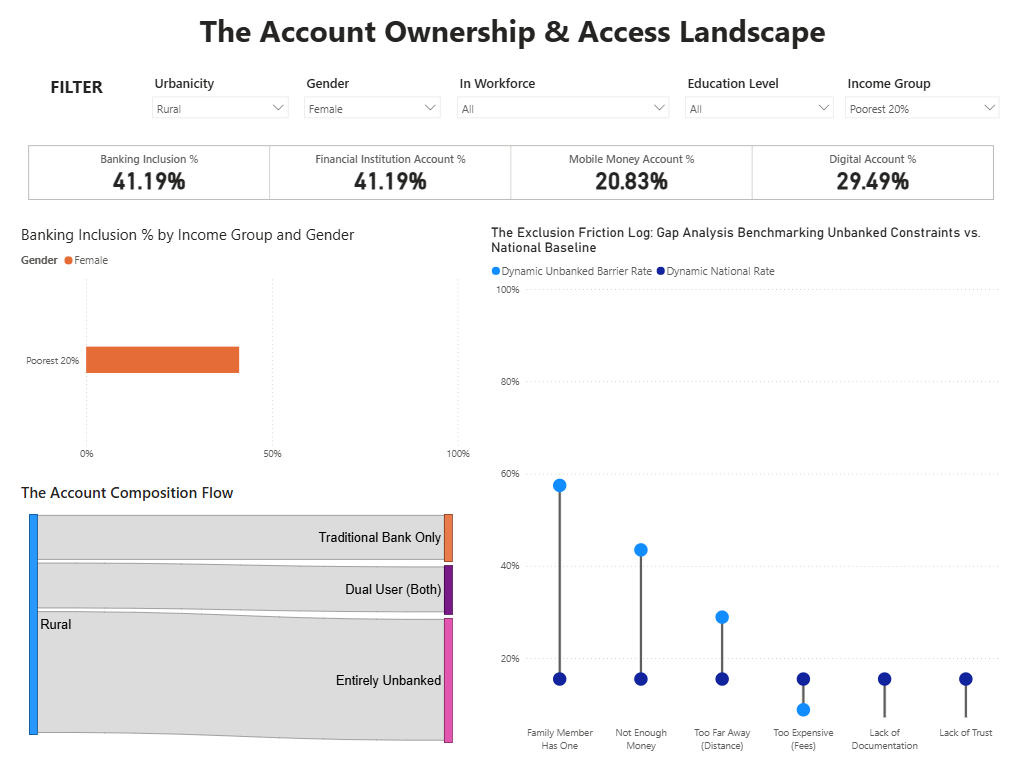

Layout of this report page (visuals, bound fields, positions):
{"tool":"powerbi","page":{"name":"The Account Ownership & Access Landscape","canvas":[1280,1000],"ordinal":2},"visuals":[{"type":"group","id":"g1","title":"Group 1","box":[24,112,1232,64],"z":0,"group":"g2"},{"type":"slicer","fields":{"Values":["Findex_Microdata_2025_updateViet Nam.Urbanicity.1"]},"box":[181.9,112,189.5,64],"z":0,"group":"g1"},{"type":"cardVisual","fields":{"Data":["Findex_Microdata_2025_updateViet Nam.Banking Inclusion %","Findex_Microdata_2025_updateViet Nam.Financial Institution Account %","Findex_Microdata_2025_updateViet Nam.Mobile Money Account %","Findex_Microdata_2025_updateViet Nam.Digital Account %"]},"box":[24,192,1232,96],"z":0},{"type":"group","id":"g2","title":"Group 2","box":[24,112,1232,64],"z":1000},{"type":"slicer","fields":{"Values":["Findex_Microdata_2025_updateViet Nam.Education Level"]},"box":[845.3,112,205.3,64],"z":1000,"group":"g2"},{"type":"slicer","fields":{"Values":["Findex_Microdata_2025_updateViet Nam.Income Group"]},"box":[1043.6,112,212.4,64],"z":1000,"group":"g1"},{"type":"slicer","fields":{"Values":["Findex_Microdata_2025_updateViet Nam.Gender"]},"box":[371.5,112,189.5,64],"z":2000,"group":"g1"},{"type":"slicer","fields":{"Values":["Findex_Microdata_2025_updateViet Nam.In Workforce"]},"box":[561,112,284.3,64],"z":2000,"group":"g2"},{"type":"clusteredBarChart","fields":{"Y":["Findex_Microdata_2025_updateViet Nam.Banking Inclusion %"],"Category":["Findex_Microdata_2025_updateViet Nam.Location Type","Findex_Microdata_2025_updateViet Nam.Income Group"],"Series":["Findex_Microdata_2025_updateViet Nam.Gender"]},"box":[24,304,568,304],"z":2000},{"type":"textbox","box":[24,112,147.8,64],"z":3000,"group":"g1"},{"type":"sankey02300D1BE6F5427989F3DE31CCA9E0F32020","title":"The Account Composition Flow","fields":{"Source":["Findex_Microdata_2025_updateViet Nam.Location Type"],"Destination":["Findex_Microdata_2025_updateViet Nam.Account Ecosystem Type"],"Weight":["Findex_Microdata_2025_updateViet Nam.Total Weighted Population"]},"box":[24,624,568,344],"z":3000},{"type":"textbox","box":[224,32,832,64],"z":4000},{"type":"lineChart","title":"The Exclusion Friction Log: Gap Analysis Benchmarking Unbanked Constraints vs. National Baseline","fields":{"Category":["Pillar4_Friction_Spine.Barrier Reason"],"Y":["Pillar4_Friction_Spine.Dynamic Unbanked Rate","Pillar4_Friction_Spine.Dynamic National Rate"]},"box":[608,304,648,664],"z":4001}]}

Visuals, with their boxes on the page's 1280x1000 design canvas (x1, y1, x2, y2). These are canvas units, not pixel positions in the 1027x769 screenshot, which may show the page scaled, cropped or inside an application window:
"Group 1" group: (24, 112, 1256, 176)
slicer - Findex_Microdata_2025_updateViet Nam.Urbanicity.1: (182, 112, 371, 176)
cardVisual - Findex_Microdata_2025_updateViet Nam.Banking Inclusion % x Findex_Microdata_2025_updateViet Nam.Financial Institution Account %: (24, 192, 1256, 288)
"Group 2" group: (24, 112, 1256, 176)
slicer - Findex_Microdata_2025_updateViet Nam.Education Level: (845, 112, 1051, 176)
slicer - Findex_Microdata_2025_updateViet Nam.Income Group: (1044, 112, 1256, 176)
slicer - Findex_Microdata_2025_updateViet Nam.Gender: (372, 112, 561, 176)
slicer - Findex_Microdata_2025_updateViet Nam.In Workforce: (561, 112, 845, 176)
clusteredBarChart - Findex_Microdata_2025_updateViet Nam.Banking Inclusion % x Findex_Microdata_2025_updateViet Nam.Location Type: (24, 304, 592, 608)
textbox: (24, 112, 172, 176)
"The Account Composition Flow" sankey02300D1BE6F5427989F3DE31CCA9E0F32020: (24, 624, 592, 968)
textbox: (224, 32, 1056, 96)
"The Exclusion Friction Log: Gap Analysis Benchmarking Unbanked Constraints vs. National Baseline" lineChart: (608, 304, 1256, 968)
